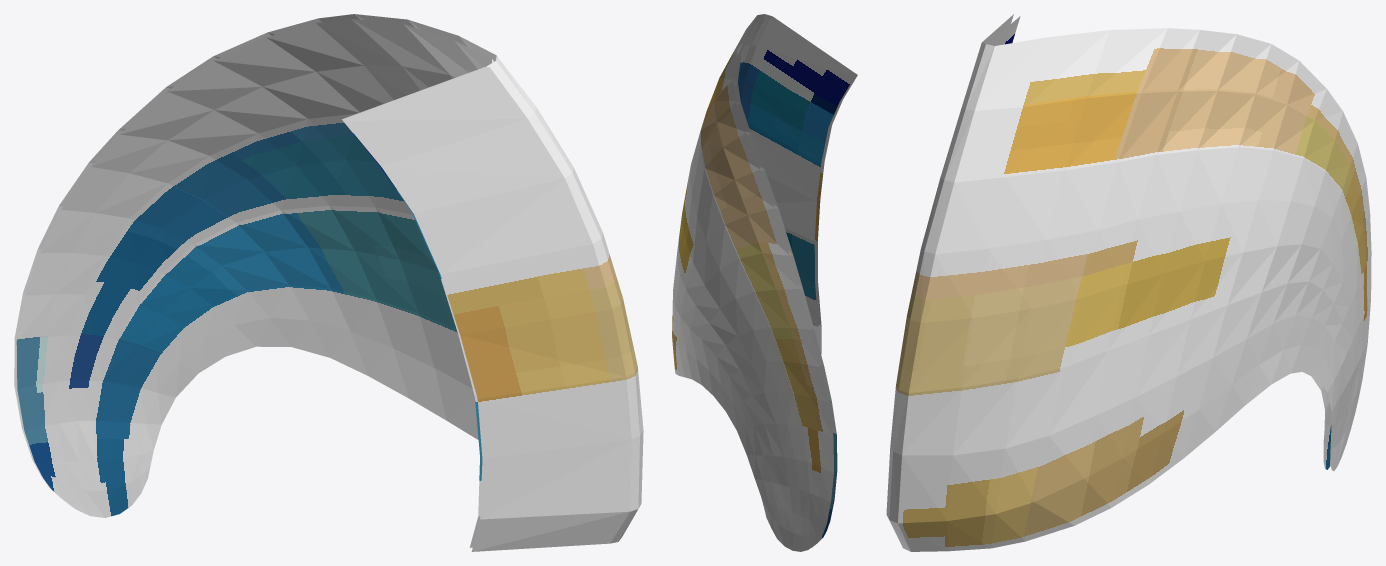
File: CharSkyKid_Mask_AP31StarryStrokes.glb
3 views of the same model, side by side, from view 1: azimuth 30°, elevation 25°; view 2: azimuth 150°, elevation 25°; view 3: azimuth 270°, elevation 25° (orthographic). The views are drawn at different scales.
Visible parts, largest first — view 1: CharSkyKid_Mask_AP31StarryStrokes; view 2: CharSkyKid_Mask_AP31StarryStrokes; view 3: CharSkyKid_Mask_AP31StarryStrokes.
Boxes of the visible parts, left/top/right/bottom form: CharSkyKid_Mask_AP31StarryStrokes: left=14, top=14, right=643, bottom=551; CharSkyKid_Mask_AP31StarryStrokes: left=672, top=14, right=857, bottom=551; CharSkyKid_Mask_AP31StarryStrokes: left=886, top=14, right=1371, bottom=551.
Bounding box in the file's own units: 0.9922 × 1.29 × 1.07.
1 material, 1 textured.
